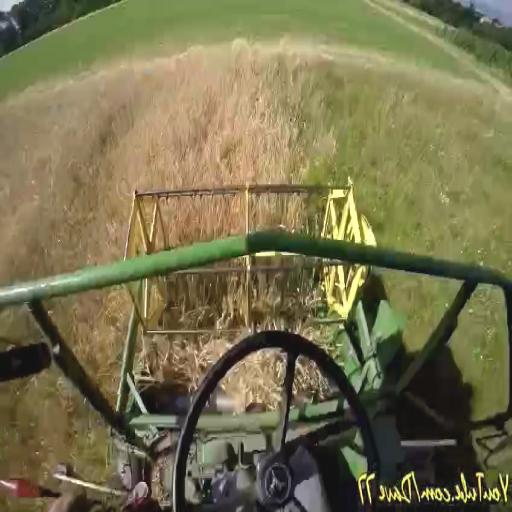bugday: (1, 47, 306, 282)
